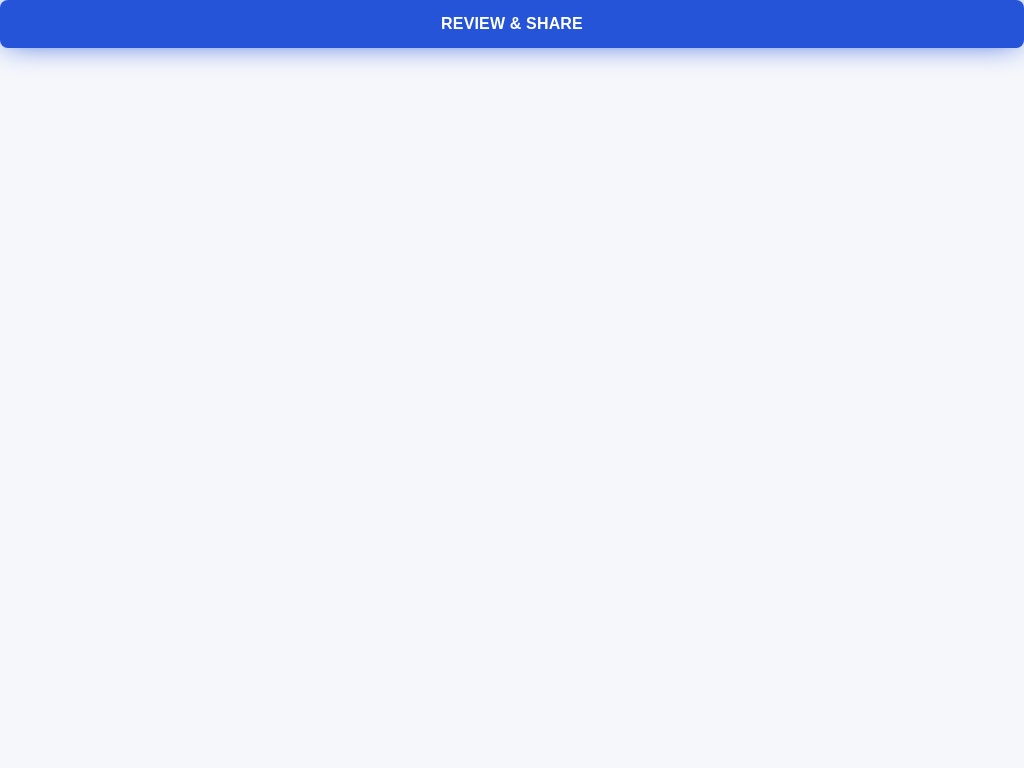
proposal saving › saves the data version with JSON and only shows success for a durable slug
The image size is (1024, 768).
Step 1. Click the button "Review & Share" → (512, 24), box [0,0,1023,48]
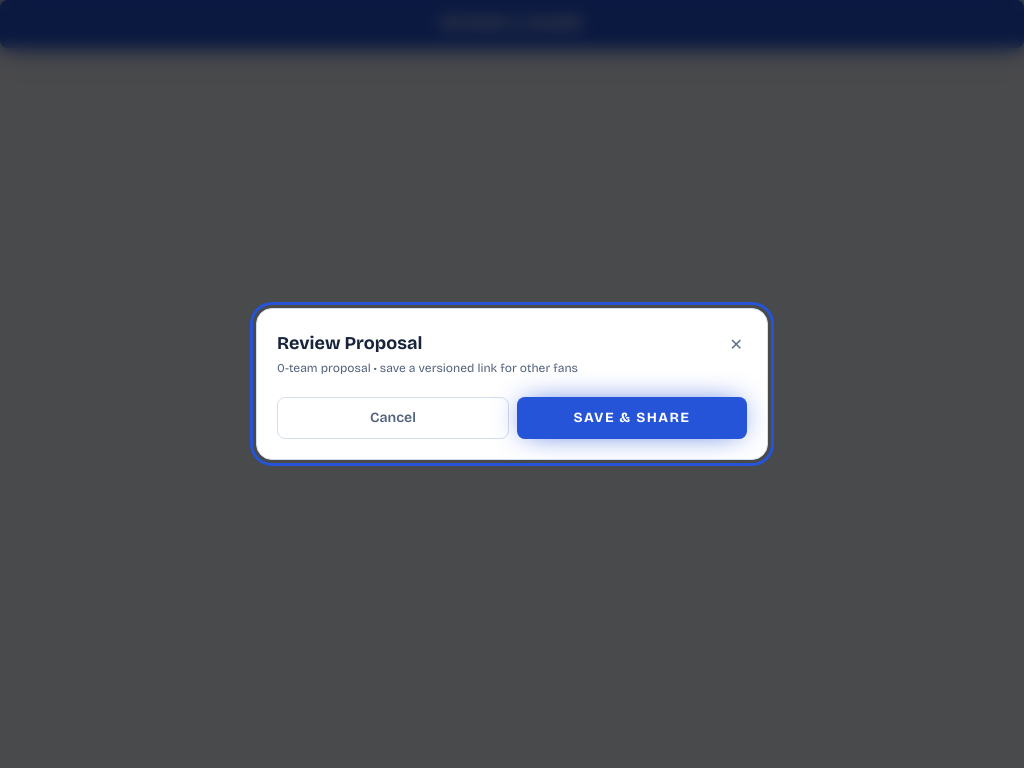
Step 2. Click the button "Save & Share" → (632, 418), box [517,397,747,439]
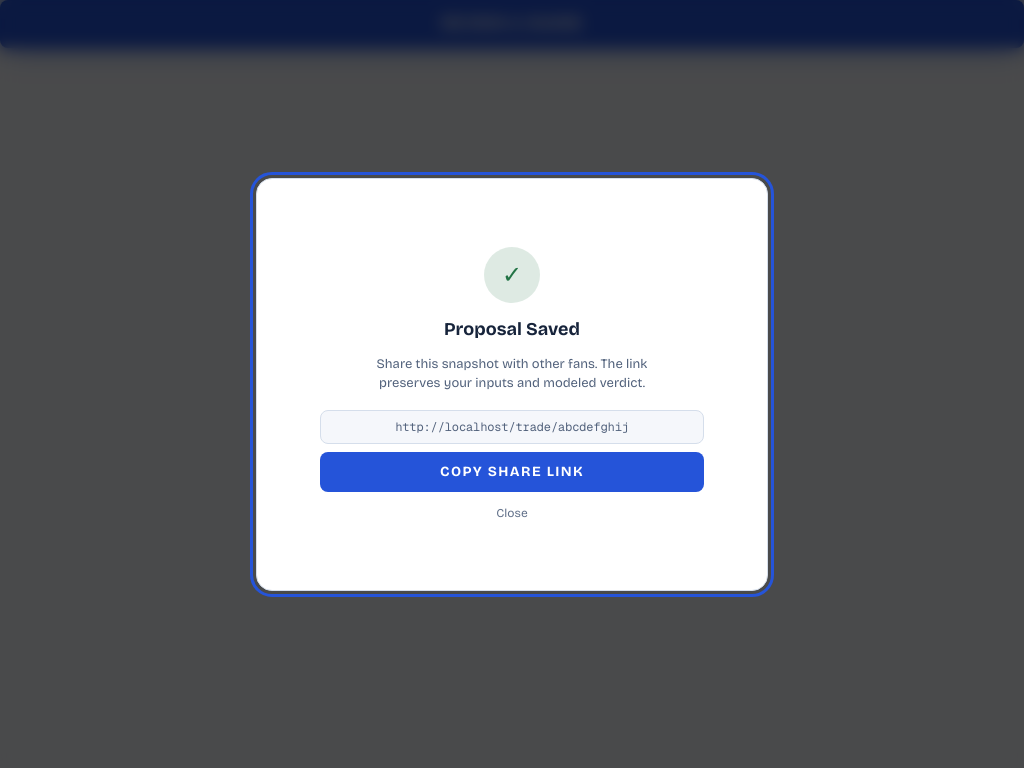
Check: the heading "Proposal Saved" is shown, box [444,314,580,342]
